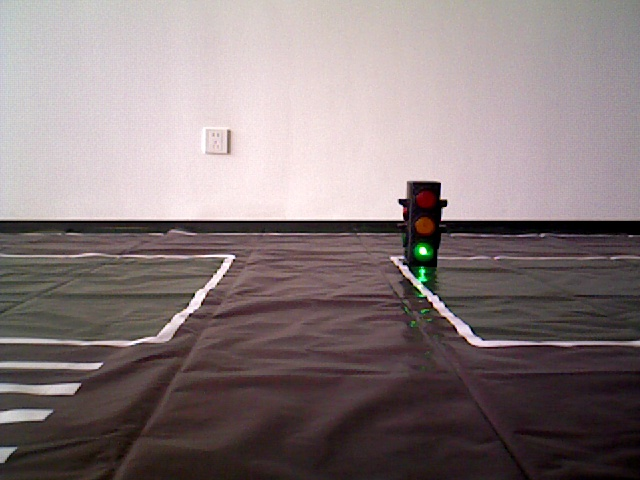green: (404, 187, 439, 261)
